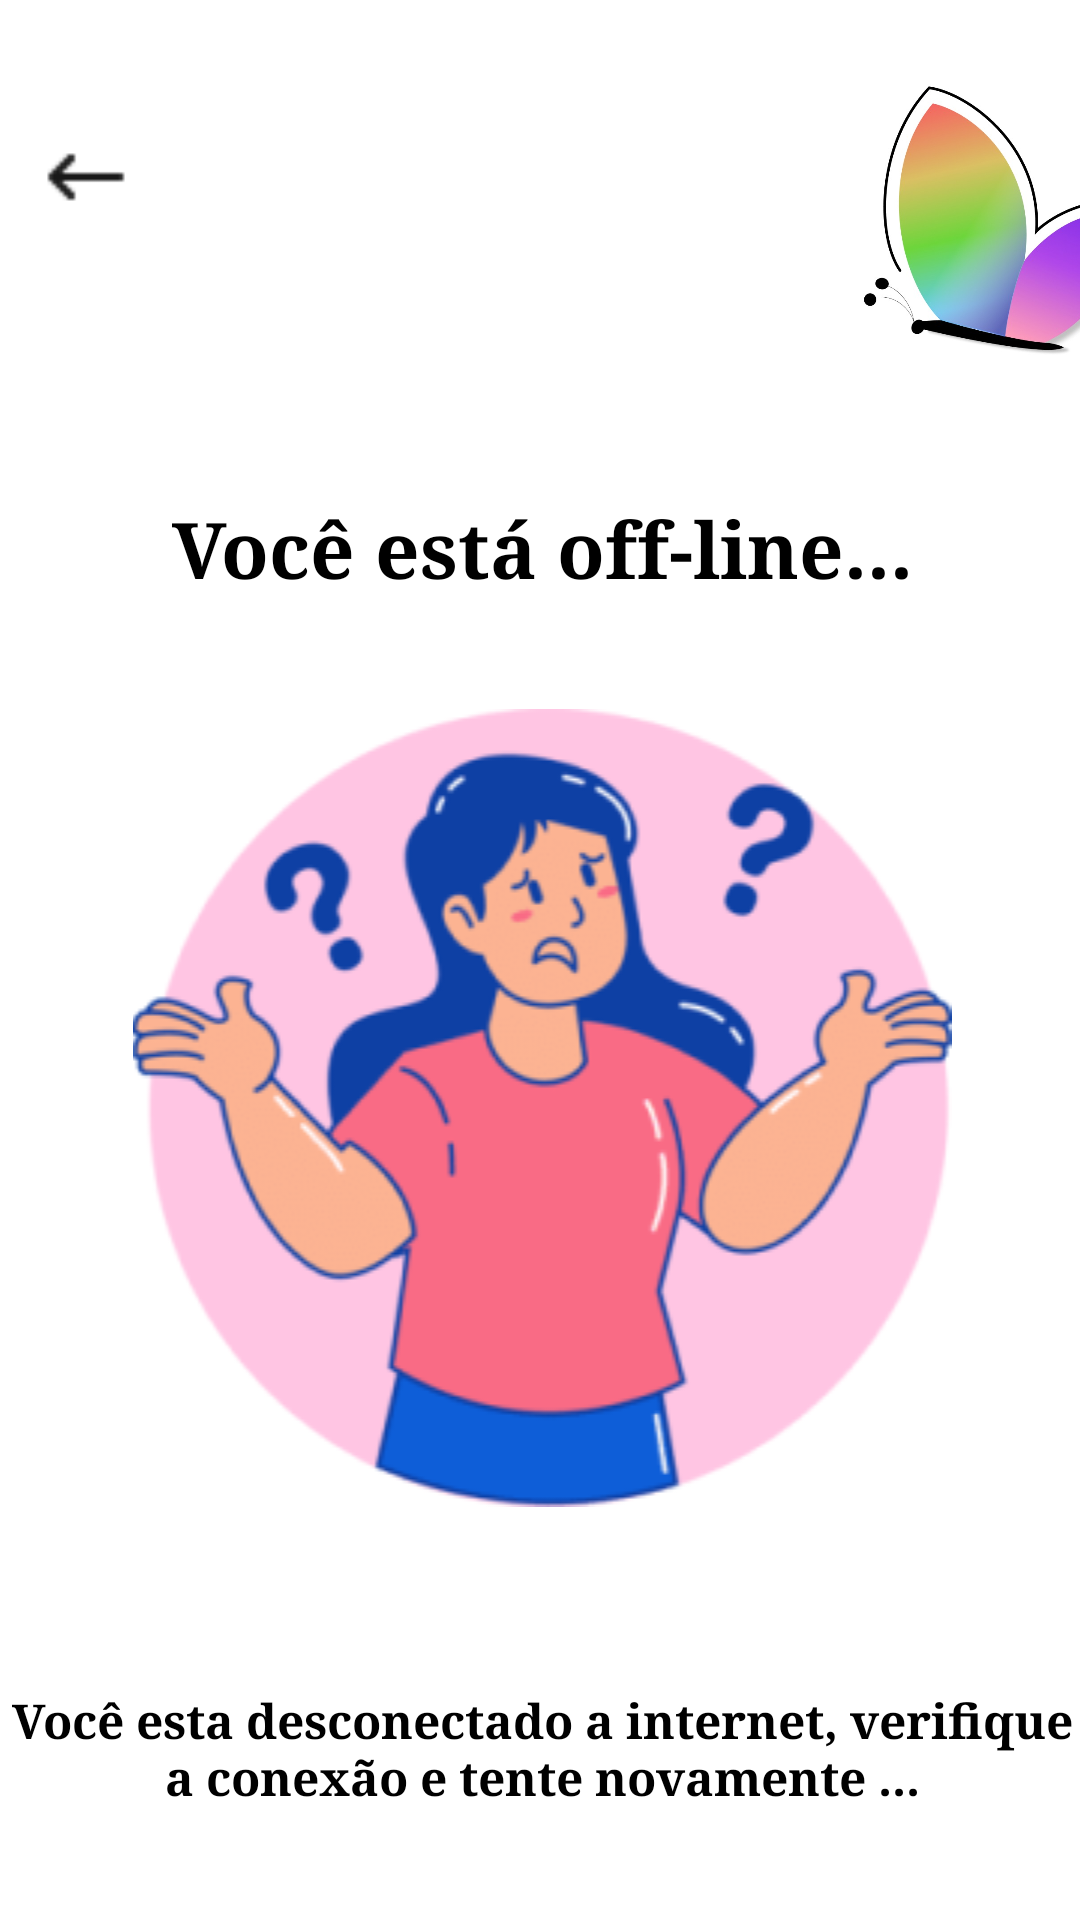

Screen size 1080w x 1920h. Icon name, then its center in pixels as (x=x, y=y):
voltar seta: (x=86, y=177)
